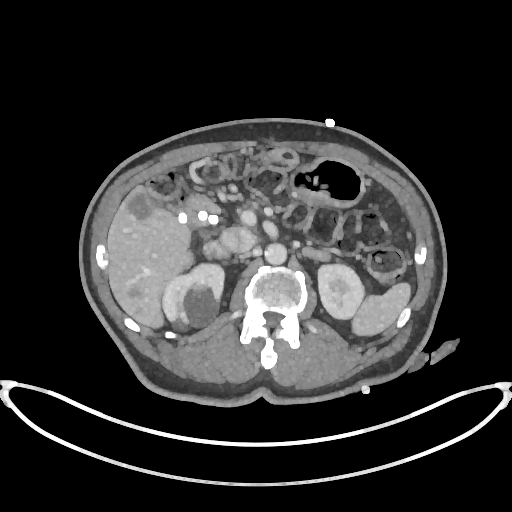Lesion: (190, 280, 209, 295)
